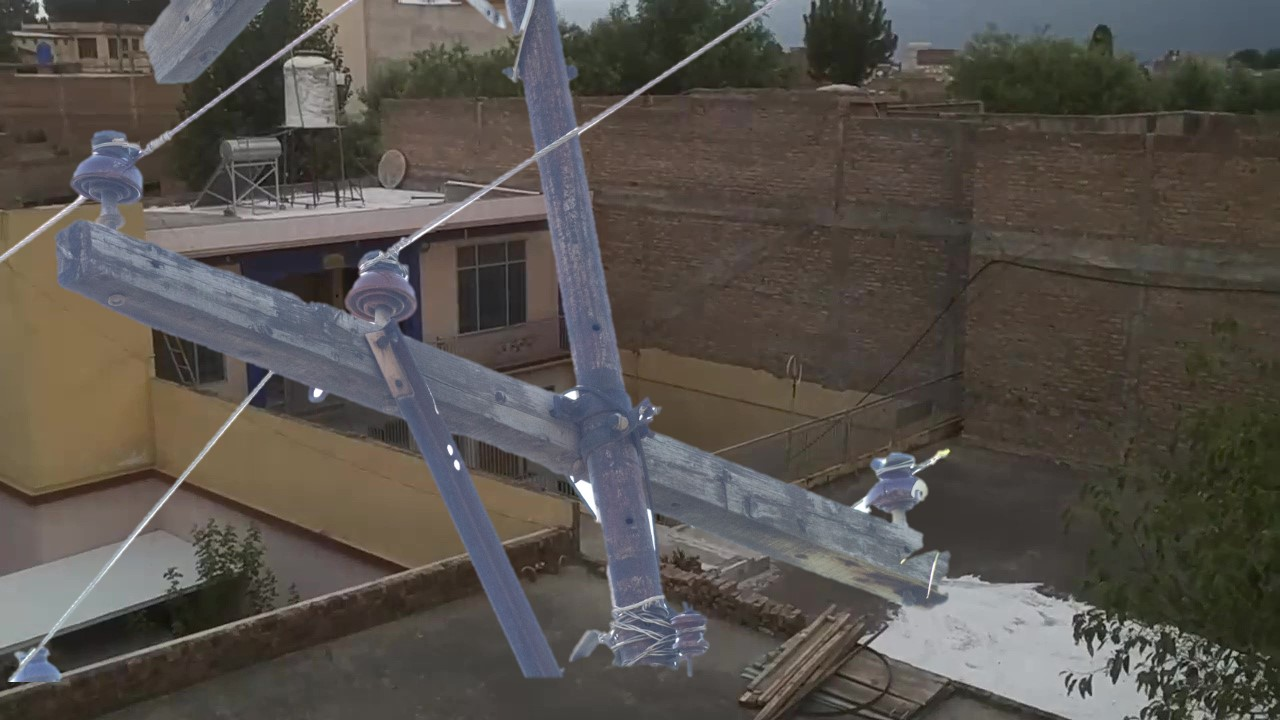defect_pin: (861, 443, 938, 522)
insulator_pin: (66, 121, 153, 218), (340, 243, 423, 326)
